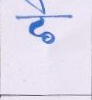ai_matra: (23, 0, 49, 14)
